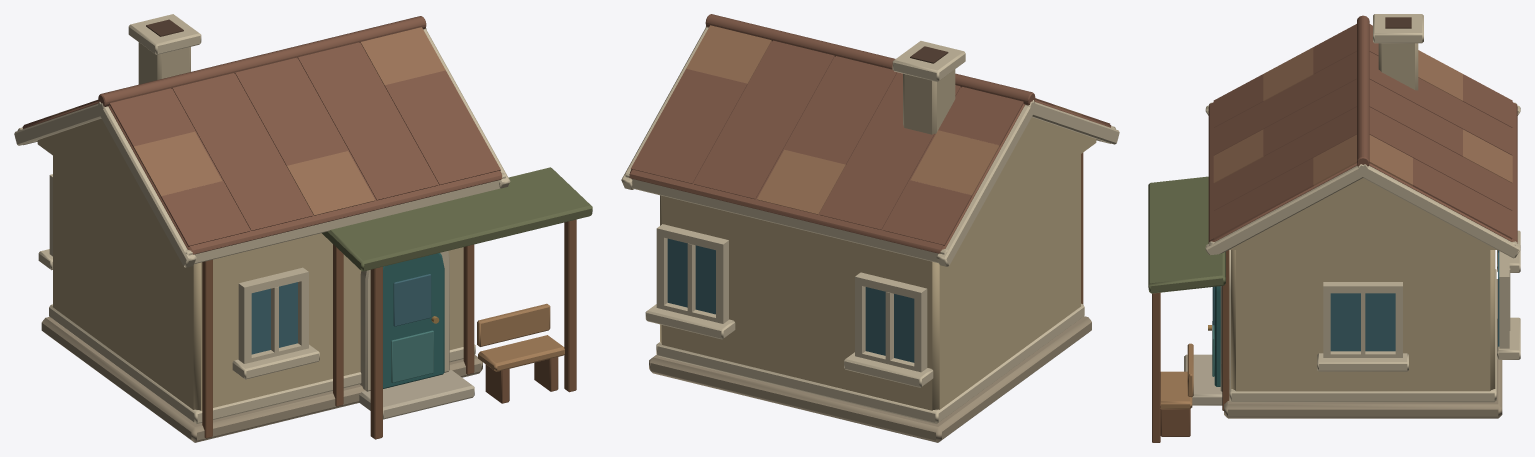
Rendered from inn_level_1.glb.
3 renders of one model, left to right at view 1: azimuth 30°, elevation 25°; view 2: azimuth 150°, elevation 25°; view 3: azimuth 270°, elevation 25°, orthographic. The views are drawn at different scales.
Visible parts, largest first — view 1: inn_level_1_runtime; view 2: inn_level_1_runtime; view 3: inn_level_1_runtime.
Part boxes in pixels (<box>): inn_level_1_runtime: <box>14,14,592,442</box>; inn_level_1_runtime: <box>621,14,1119,442</box>; inn_level_1_runtime: <box>1148,14,1520,442</box>.
Bounding box in the file's own units: 4.45 × 3.75 × 4.23.
